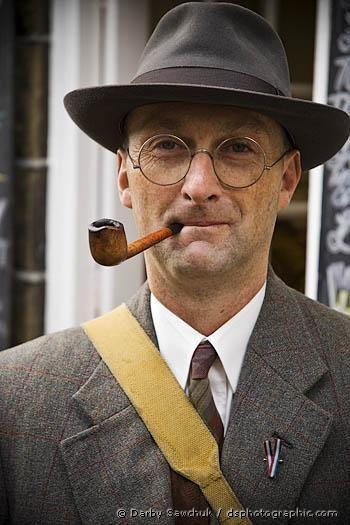trubka: (88, 219, 181, 266)
